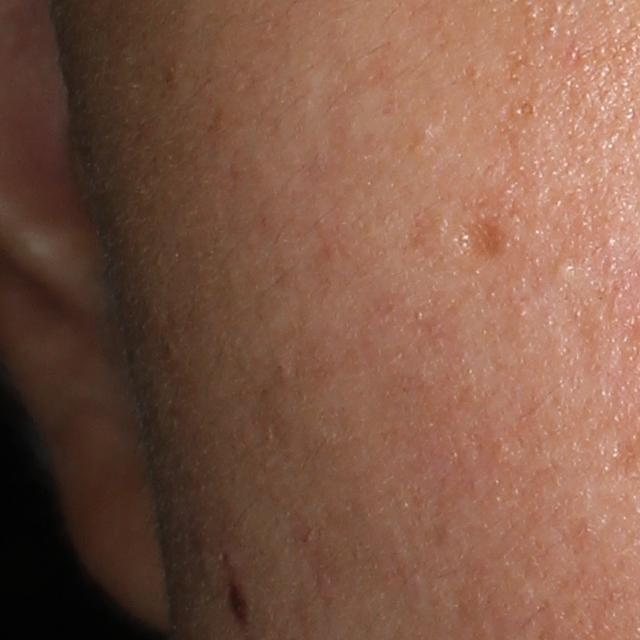comedo: (548, 254, 578, 285)
nevus: (228, 583, 254, 634)
other: (452, 210, 511, 265)
